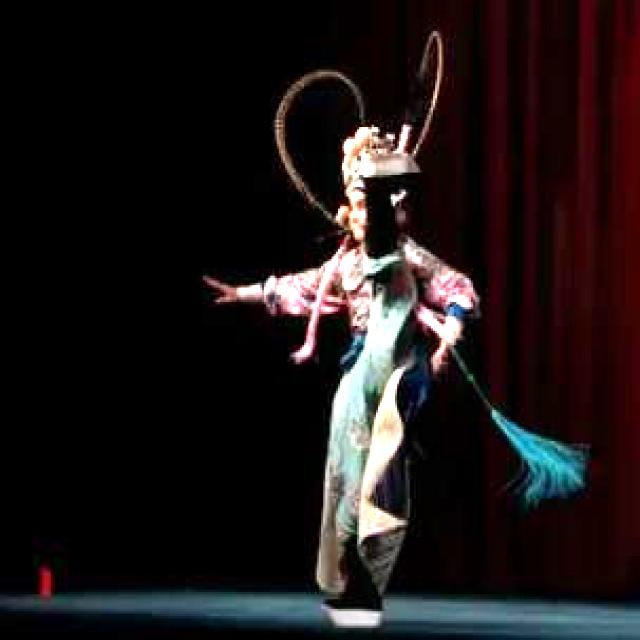Reeves-s Pheasant: (275, 70, 363, 199), (412, 31, 441, 156)
